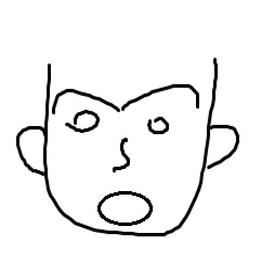ear: (7, 113, 50, 178), (199, 120, 245, 176)
empty_eye: (65, 107, 102, 132), (147, 114, 174, 135)
frowning_eyebrow: (121, 81, 205, 114), (52, 82, 120, 114)
nose: (110, 131, 133, 171)
open_mouth: (89, 186, 157, 227)
